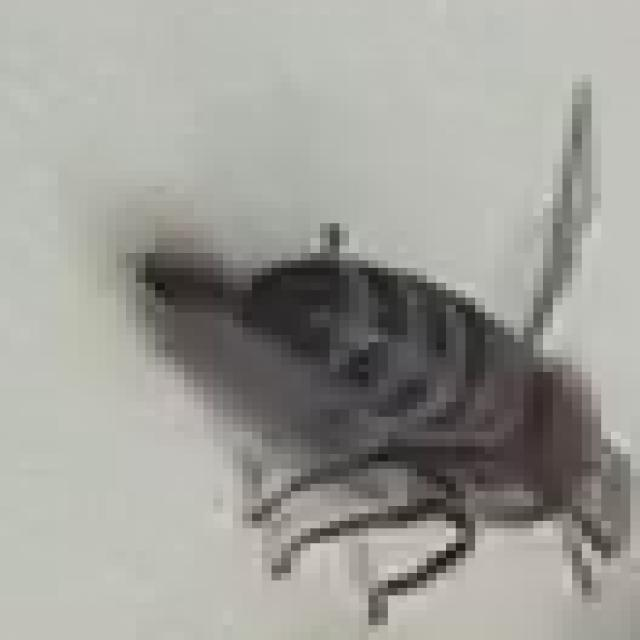honeybee: (108, 180, 640, 635)
